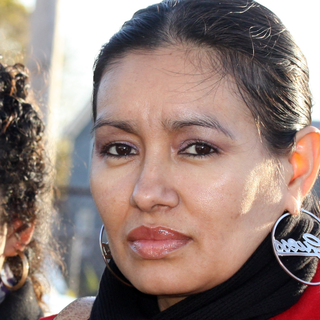eye: (172, 136, 223, 164), (95, 136, 143, 164)
